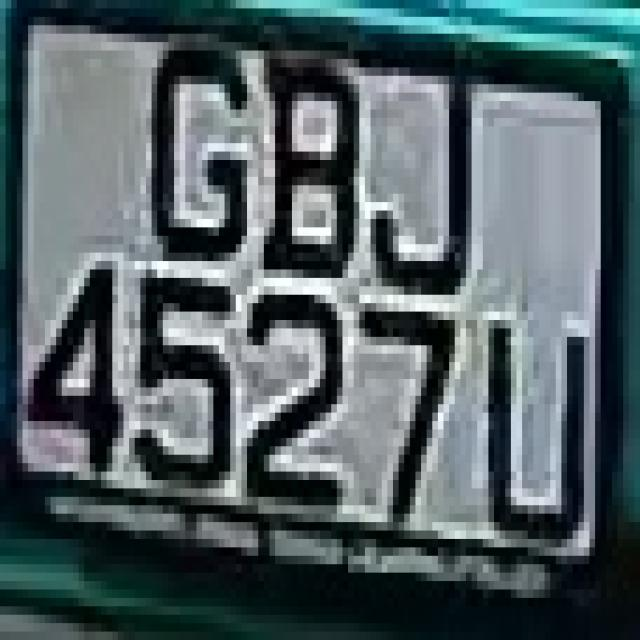2: (241, 245, 348, 548)
4: (28, 211, 135, 522)
5: (140, 236, 236, 505)
7: (354, 286, 466, 581)
B: (258, 42, 376, 295)
G: (112, 0, 253, 278)
J: (371, 51, 494, 312)
U: (472, 295, 595, 547)
